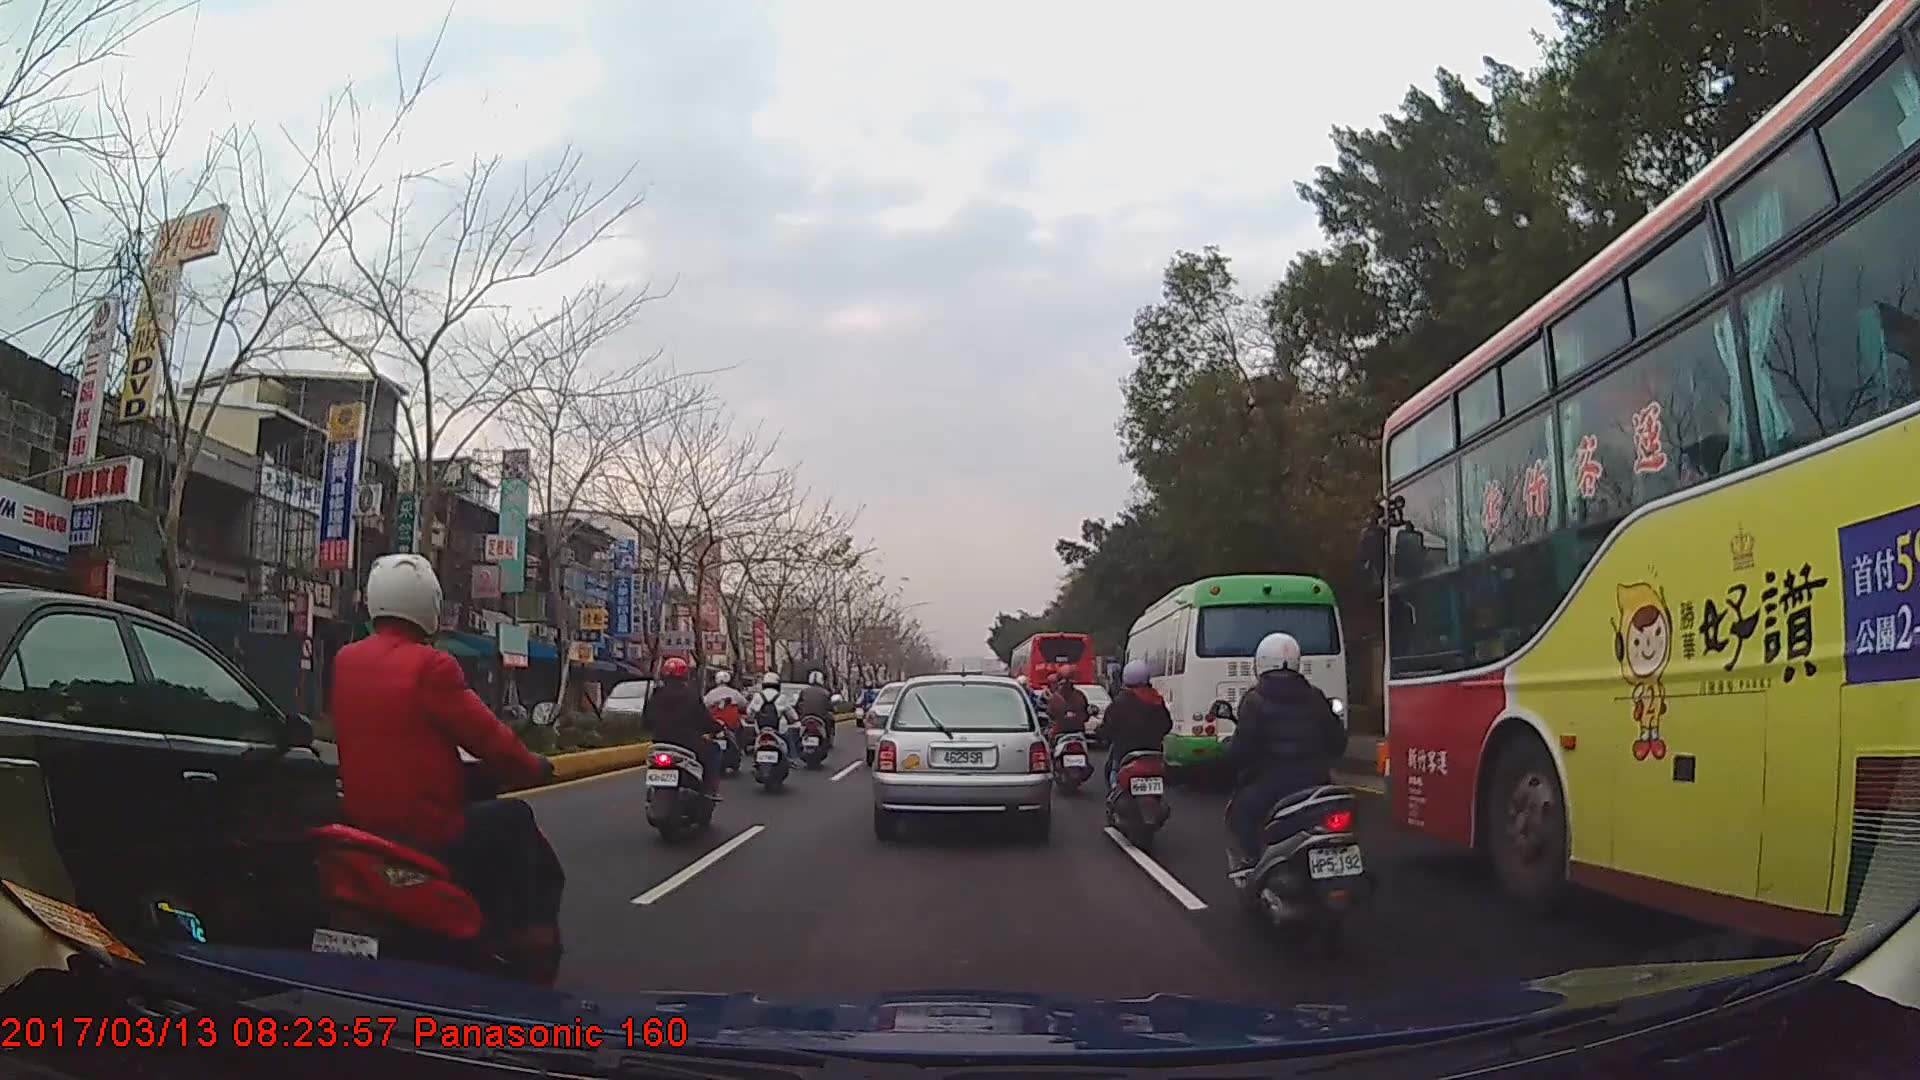rider: (303, 557, 565, 991), (1216, 632, 1380, 963), (1101, 659, 1184, 858), (639, 658, 720, 842), (1045, 660, 1092, 788), (749, 674, 800, 793), (703, 671, 752, 779), (799, 672, 841, 768), (858, 682, 880, 721)
vehicle: (1381, 0, 1920, 992), (0, 581, 415, 963), (1119, 573, 1350, 789), (872, 673, 1049, 835), (1011, 629, 1097, 730)
